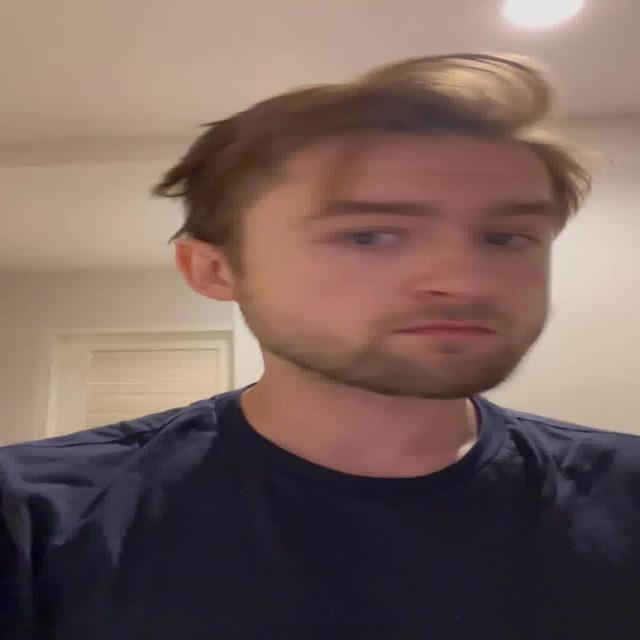earlobe: (204, 281, 237, 302)
eye: (336, 230, 402, 246), (480, 231, 538, 247)
nose: (416, 292, 492, 325)
wholeear: (172, 240, 237, 302)
